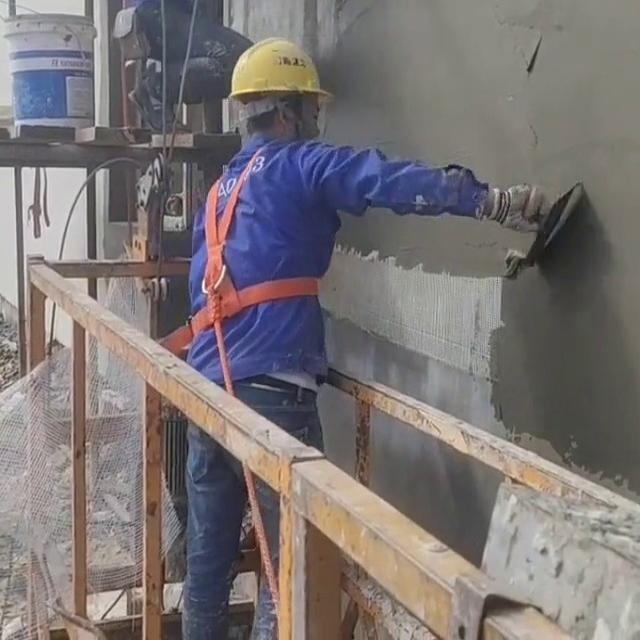Arnes_seguridad: (179, 131, 329, 340)
